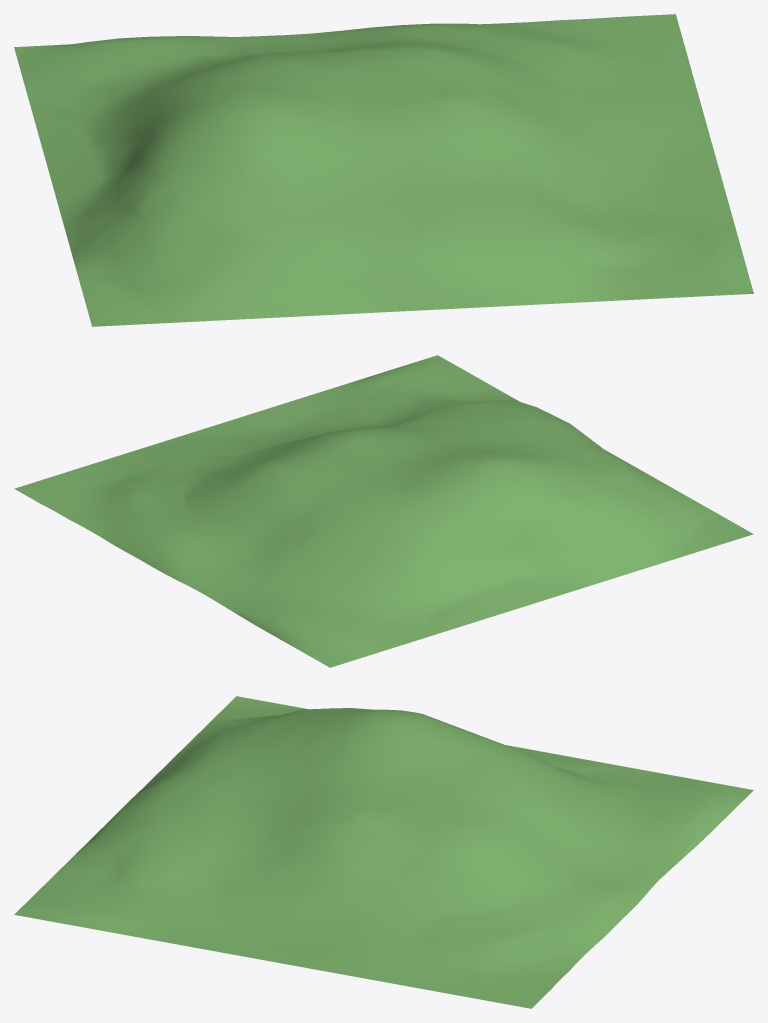
File: SM_Hills_03.obj
The picture shows the model from 3 angles, top to bottom: view 1: azimuth 30°, elevation 25°; view 2: azimuth 150°, elevation 25°; view 3: azimuth 270°, elevation 25°; orthographic projection. The views are drawn at different scales.
Visible parts, largest first — view 1: SM_Hills_03; view 2: SM_Hills_03; view 3: SM_Hills_03.
Part boxes in pixels (left/top/right/bottom): SM_Hills_03: left=14, top=14, right=753, bottom=326; SM_Hills_03: left=14, top=355, right=753, bottom=667; SM_Hills_03: left=14, top=696, right=753, bottom=1008.
Size of the model in its own units: 19.48 by 2.28 by 19.48.
1 material, 1 textured.
